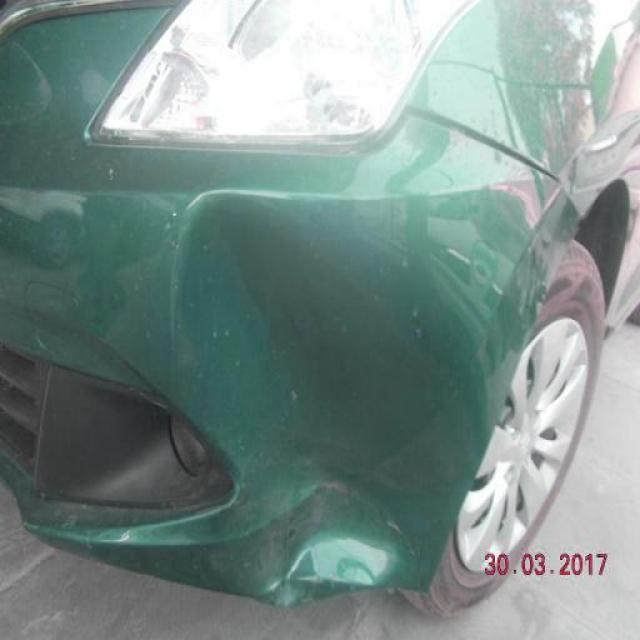Car-Damage: (173, 188, 479, 611), (412, 99, 583, 215)
